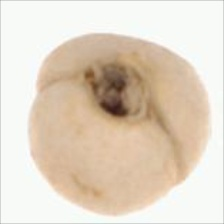L3: (81, 56, 155, 121)
L4: (28, 32, 211, 215)
